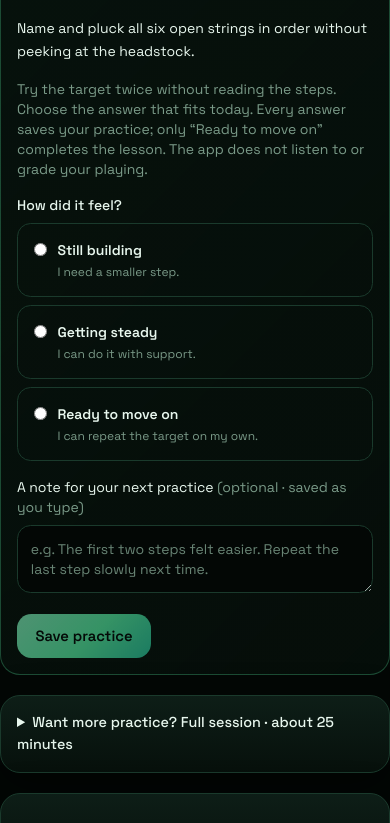
Scenario: completes the assessed lesson without changing the page until Continue
(page scrolled)
Step 1. Click the radio button labelled "Ready to move on I can repeat the target on my own." → click(40, 414), box [34,407,47,420]
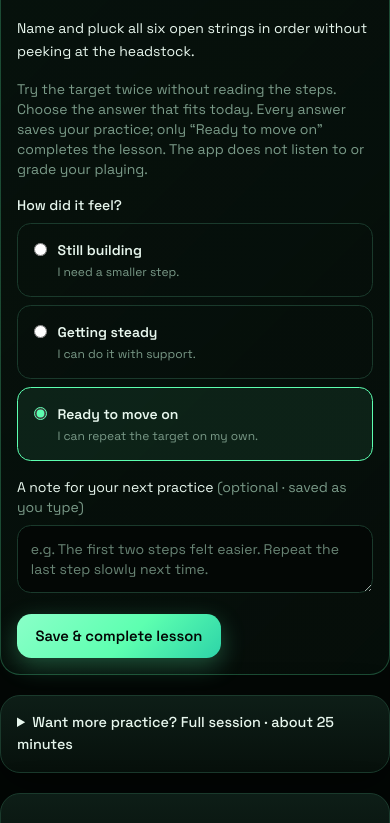
Step 2. Click the button "Save & complete lesson" → click(119, 636), box [17,614,221,658]
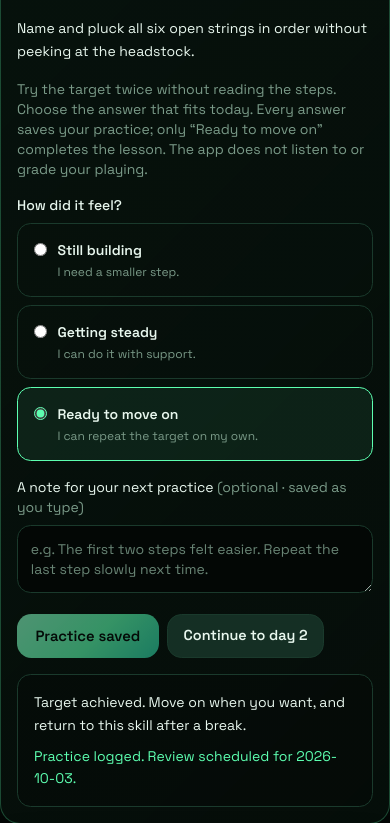
Step 3. Click the button "Continue to day 2" → click(246, 636), box [167,614,324,658]
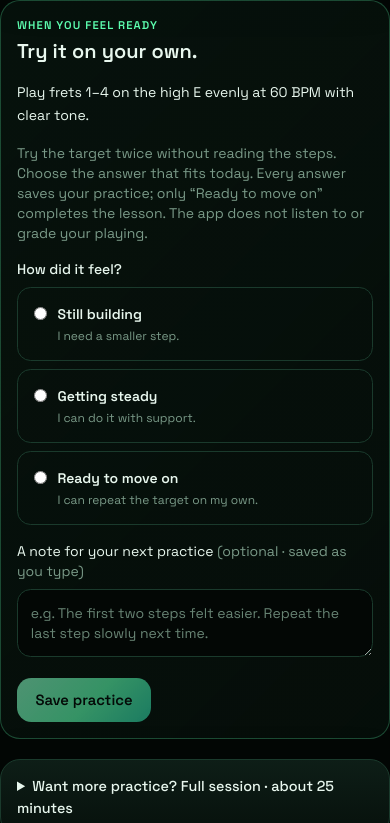
Result: the radio button labelled "Ready to move on I can repeat the target on my own." is not checked at [34,471,47,484]
